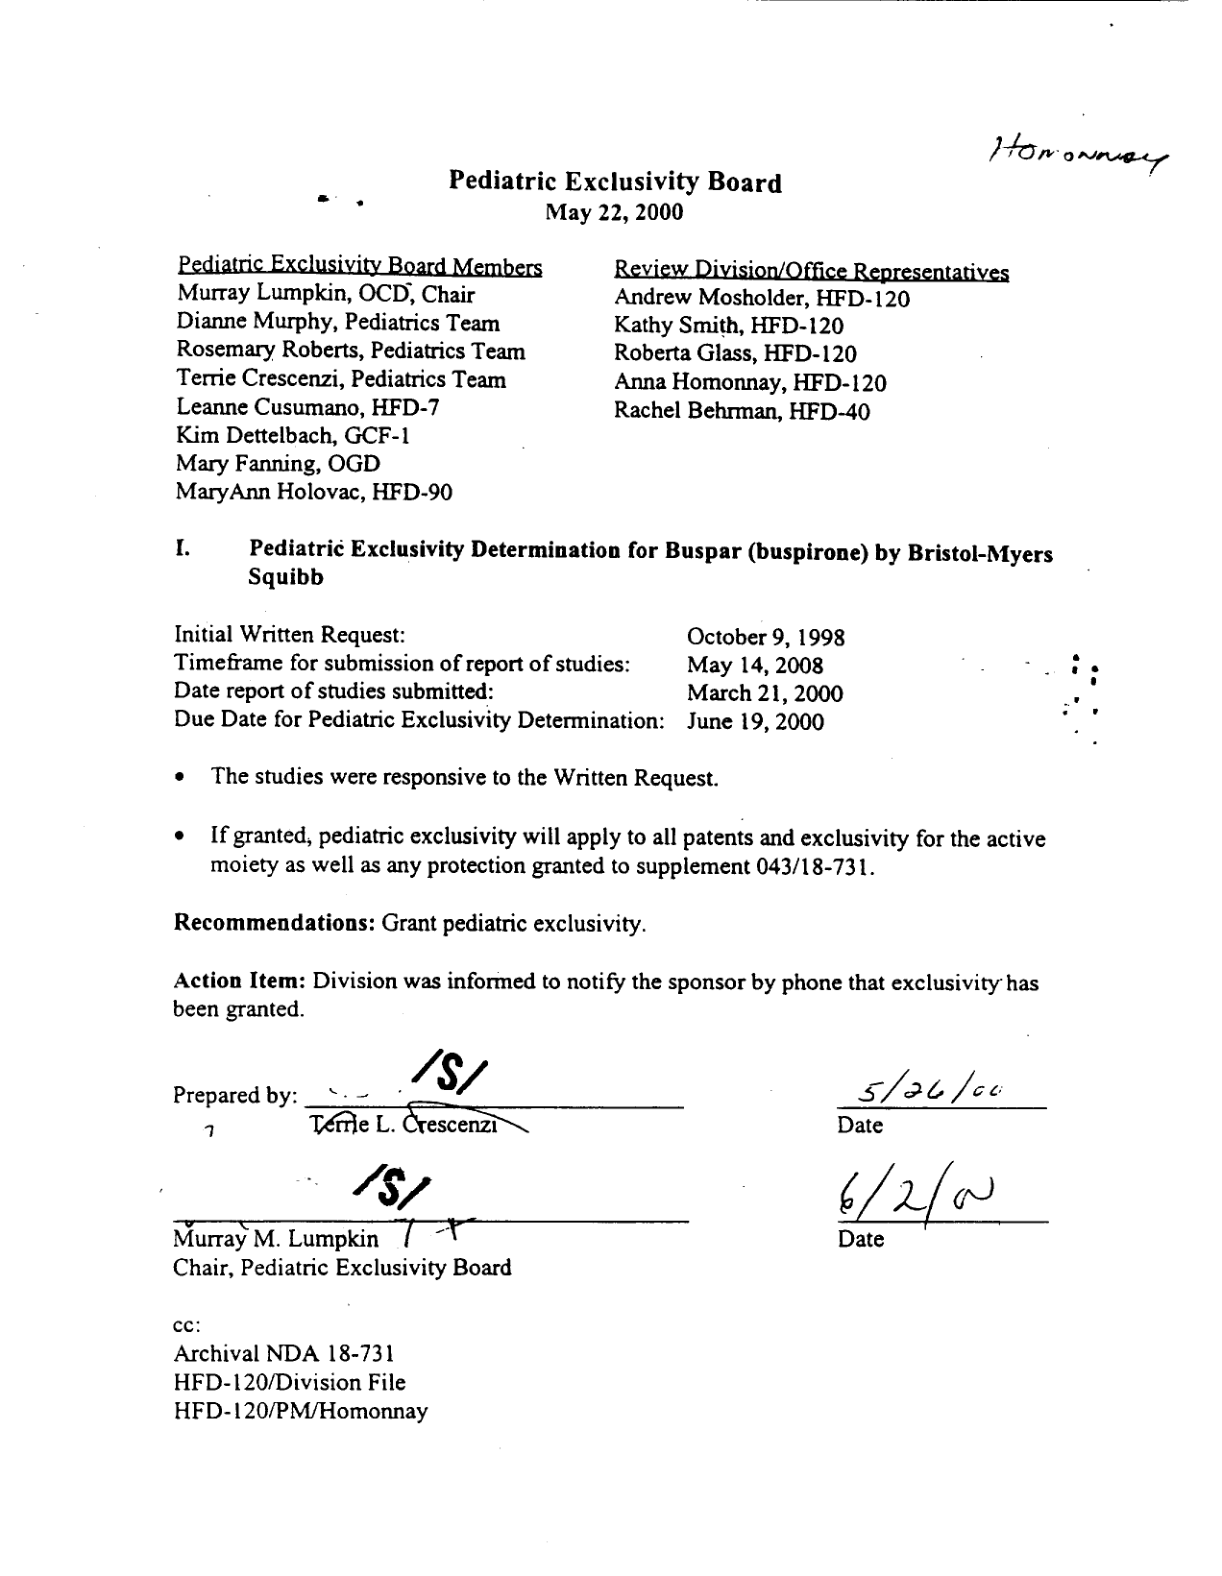nolines: (171, 249, 1010, 505), (173, 619, 848, 732)
